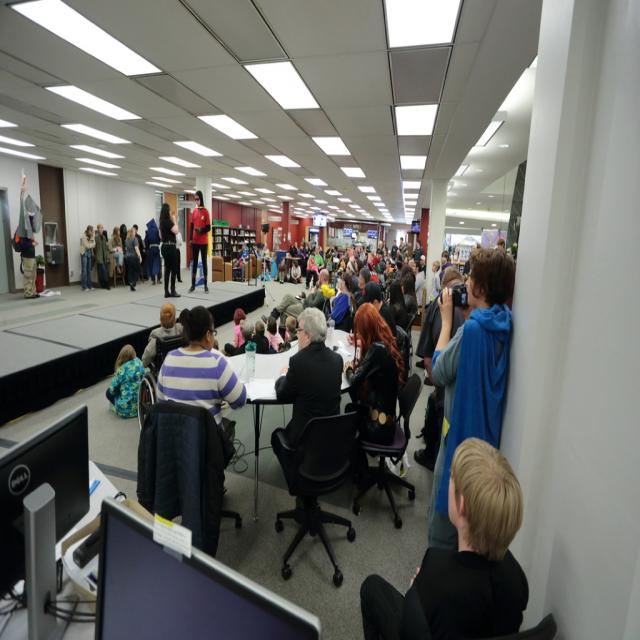chair: (136, 393, 243, 558), (272, 410, 360, 585), (353, 370, 423, 528)
desk: (226, 324, 360, 525)
laptop: (97, 499, 320, 636)
person: (361, 436, 532, 636), (427, 246, 515, 550), (158, 304, 250, 456), (272, 306, 344, 475), (343, 302, 401, 443), (140, 300, 186, 377), (188, 188, 212, 297)
tv: (0, 401, 91, 590)
